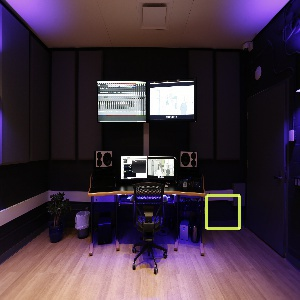square: (203, 192, 243, 232)
